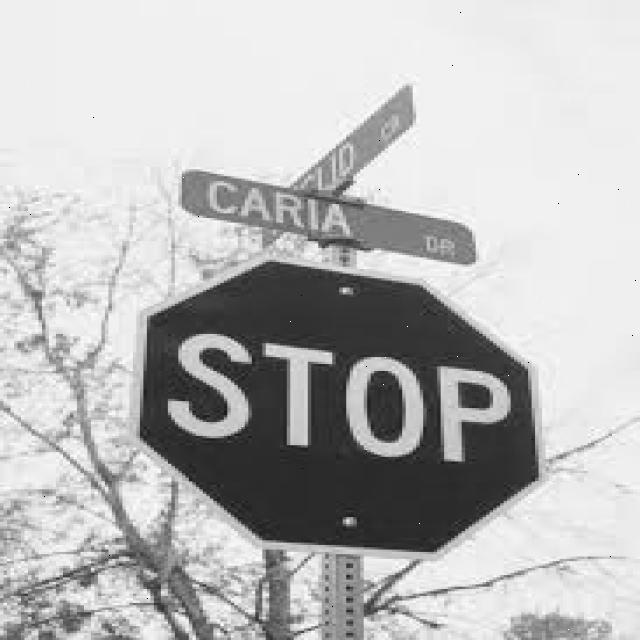stop sign: (126, 253, 554, 558)
